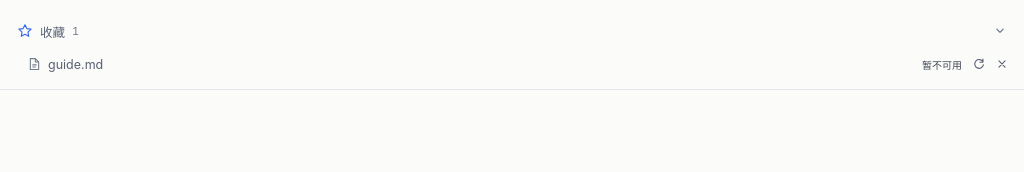
Test: FavoritesPanel › retains favorites after inspection errors and retries failed open without an unhandled rejection
The width and height of the screenshot is (1024, 172).
expect the text "暂不可用" is shown: met, box [922,56,962,72]
Click the button named "重试打开 guide.md".
click(978, 64)  # box [967,52,990,76]
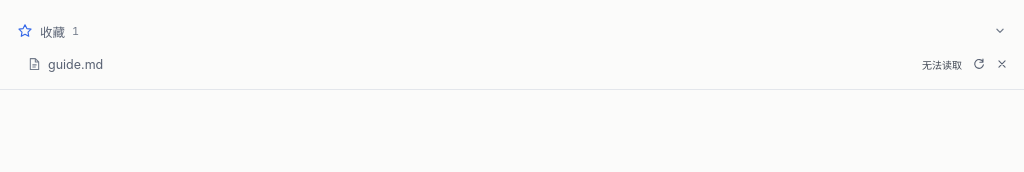
expect the button "guide.md 无法读取" is shown: met, box [22,48,967,80]
expect the text "无法读取" is shown: met, box [922,56,962,72]
